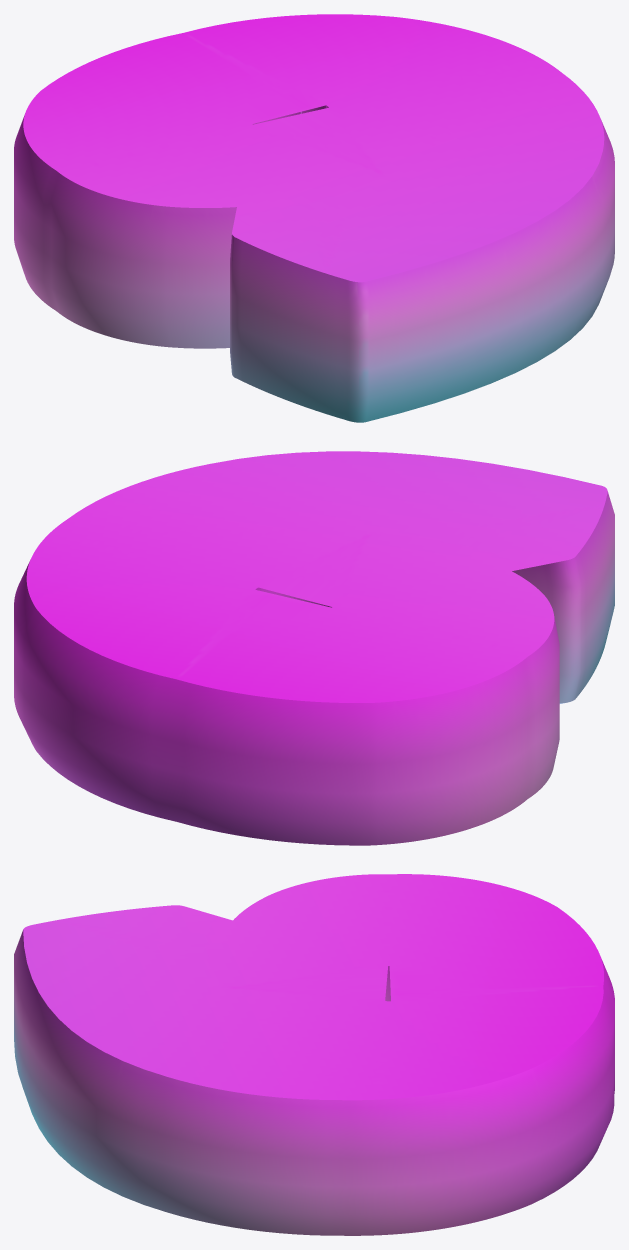
3 views of the same model, one above another, from view 1: azimuth 30°, elevation 25°; view 2: azimuth 150°, elevation 25°; view 3: azimuth 270°, elevation 25° (orthographic). The views are drawn at different scales.
Parts seen in each view (by area): view 1: Curve.009; view 2: Curve.009; view 3: Curve.009.
Boxes of the visible parts, x1,y1,x2,y2 form: Curve.009: (14, 14, 614, 422); Curve.009: (14, 451, 614, 845); Curve.009: (14, 874, 614, 1235).
Size of the model in its own units: 42.01 by 11.36 by 45.61.
Materials: 1 (1 with a texture image).
